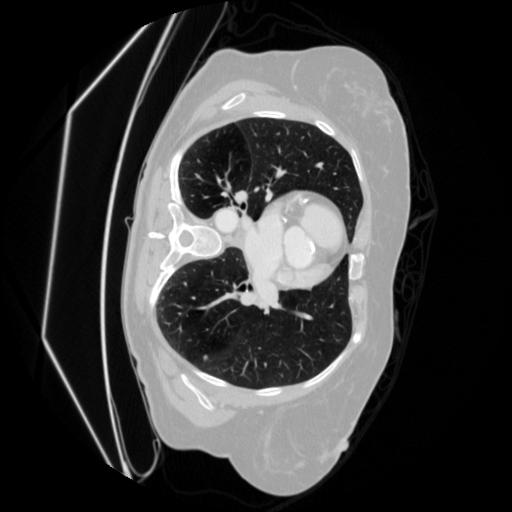nodule: (202, 355, 213, 366)
